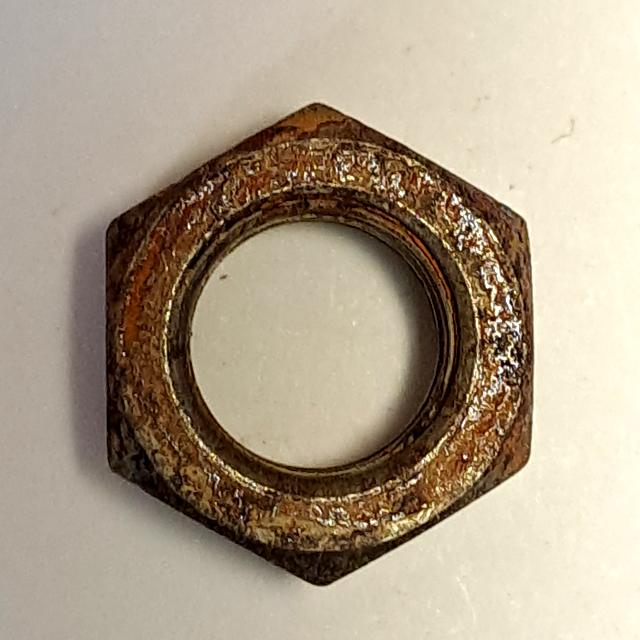Rust: (90, 89, 546, 598)
